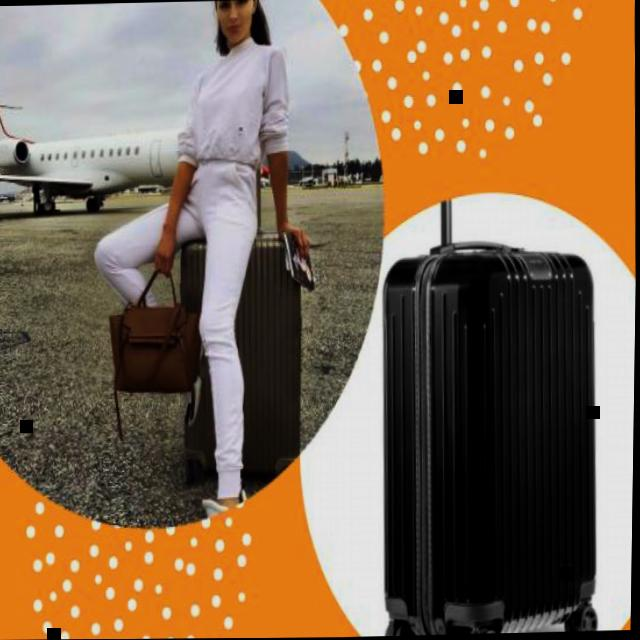luggage: (375, 235, 606, 637), (176, 233, 308, 492)
